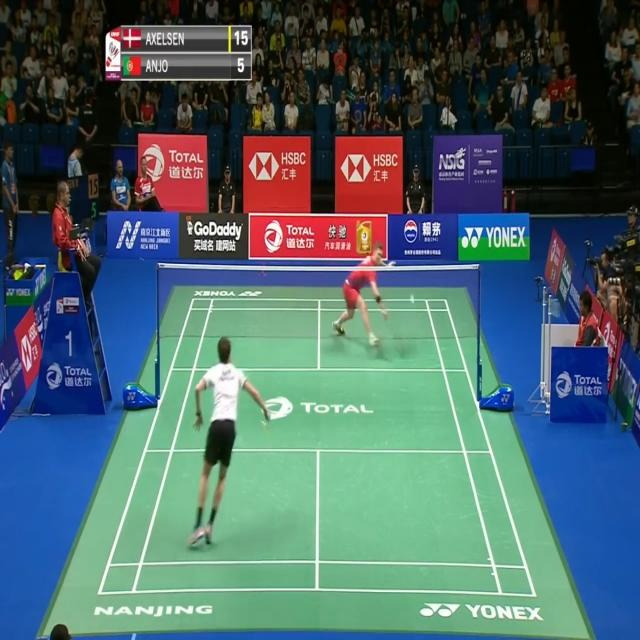Player1: (184, 332, 272, 564)
Player2: (330, 239, 398, 362)
